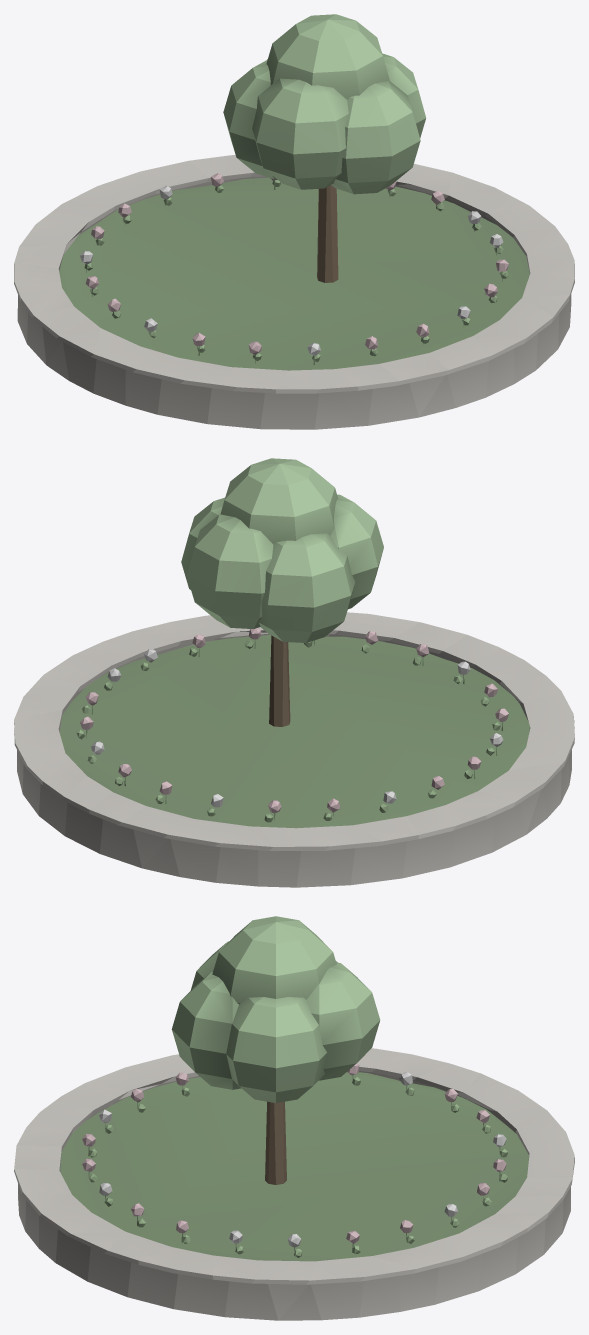
Rendered from plaza_garden_round_spring_low.glb.
3 views of the same model, one above another, from view 1: azimuth 30°, elevation 25°; view 2: azimuth 150°, elevation 25°; view 3: azimuth 270°, elevation 25° (orthographic).
Size of the model in its own units: 6.08 by 3.51 by 6.08.
